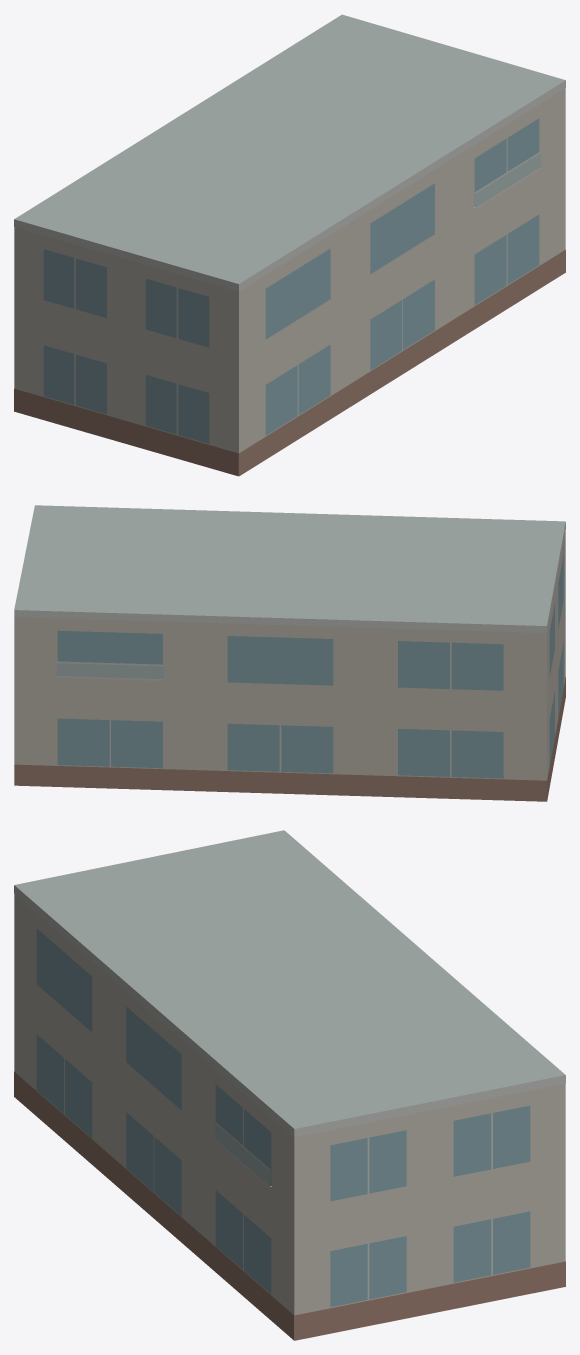
File: survey-upis-32705588.glb
3 renders of one model, top to bottom at view 1: azimuth 30°, elevation 25°; view 2: azimuth 150°, elevation 25°; view 3: azimuth 270°, elevation 25°, orthographic. The views are drawn at different scales.
Visible parts, largest first — view 1: survey-upis-32705588.tmp; view 2: survey-upis-32705588.tmp; view 3: survey-upis-32705588.tmp.
Boxes of the visible parts, x1,y1,x2,y2 form: survey-upis-32705588.tmp: [14, 14, 565, 476]; survey-upis-32705588.tmp: [14, 505, 565, 801]; survey-upis-32705588.tmp: [14, 830, 565, 1340].
Size of the model in its own units: 18.48 by 6.1 by 14.41.
